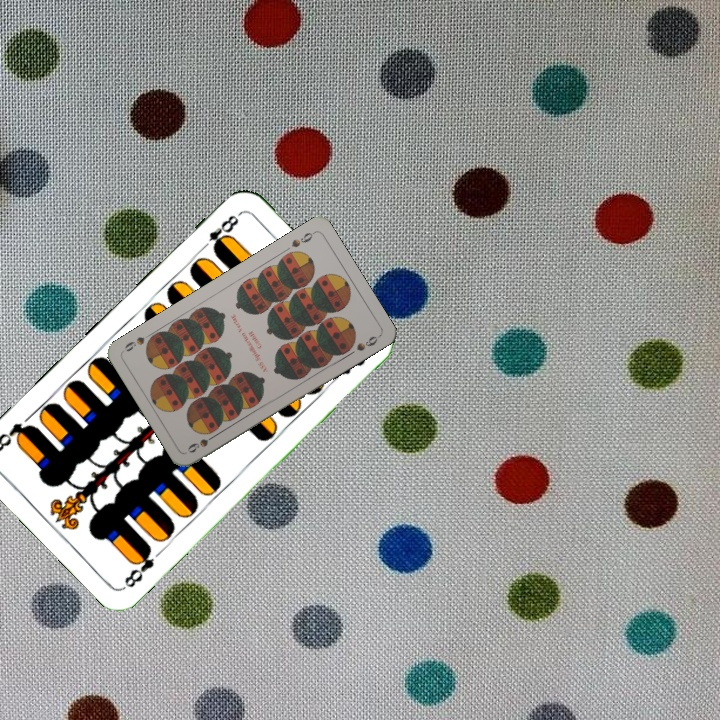E8: (196, 209, 244, 255), (120, 542, 157, 591)
S9: (183, 429, 221, 456), (287, 227, 317, 250)
